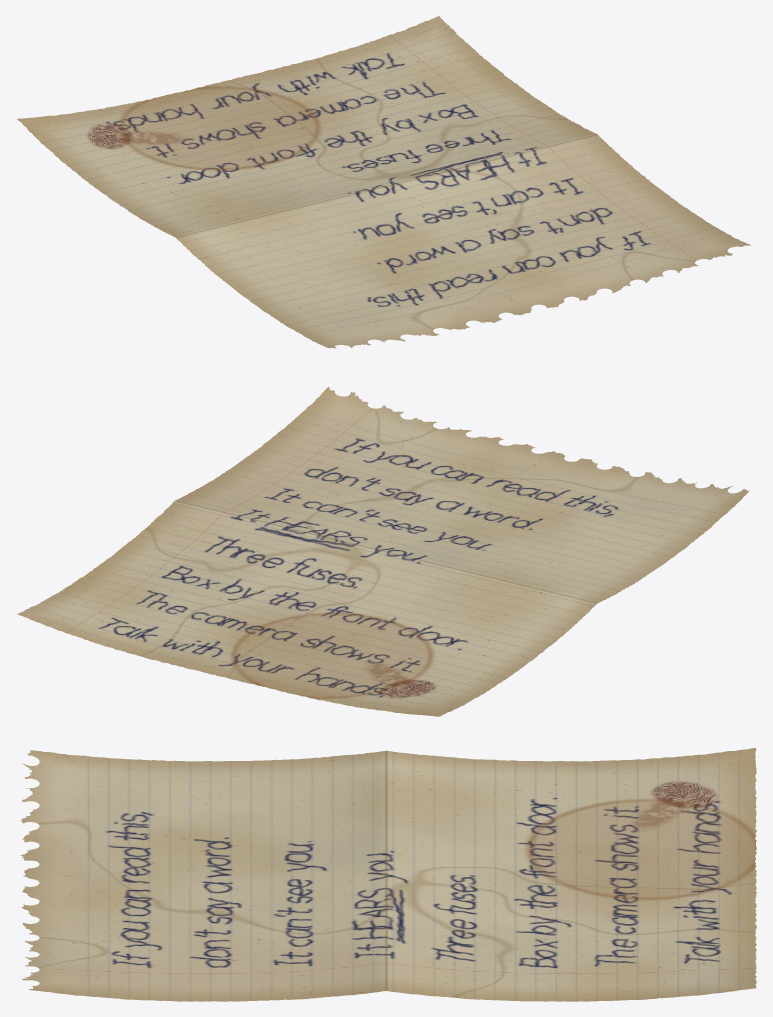
File: note_tutorial.glb
3 renders of one model, top to bottom at view 1: azimuth 30°, elevation 25°; view 2: azimuth 150°, elevation 25°; view 3: azimuth 270°, elevation 25°, orthographic. The views are drawn at different scales.
Parts seen in each view (by area): view 1: note_tutorial; view 2: note_tutorial; view 3: note_tutorial.
Boxes of the visible parts, x1,y1,x2,y2 form: note_tutorial: [17, 16, 750, 348]; note_tutorial: [17, 387, 748, 716]; note_tutorial: [20, 748, 756, 1001].
Size of the model in its own units: 0.2 by 0.006 by 0.26.
Materials: 1 (1 with a texture image).
